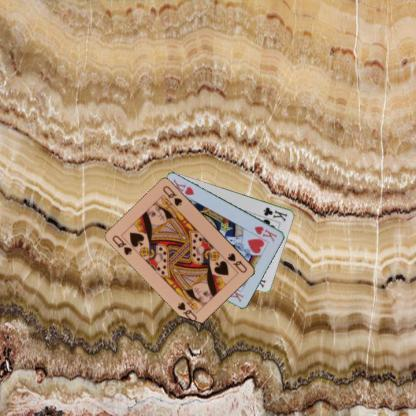Kc: (261, 204, 288, 223)
Kh: (252, 223, 278, 243)
Qs: (110, 233, 133, 256), (226, 250, 248, 274)
